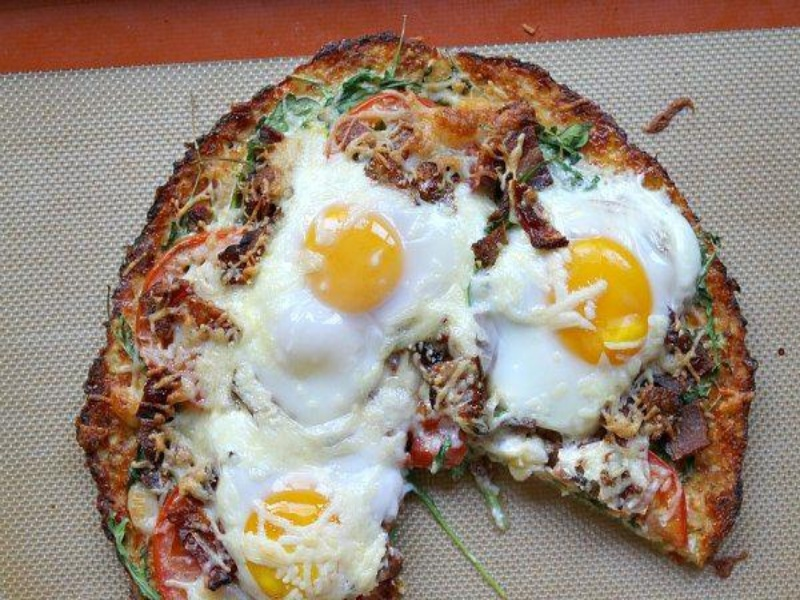oeuf: (524, 234, 657, 377), (299, 191, 417, 326), (236, 473, 348, 600)
